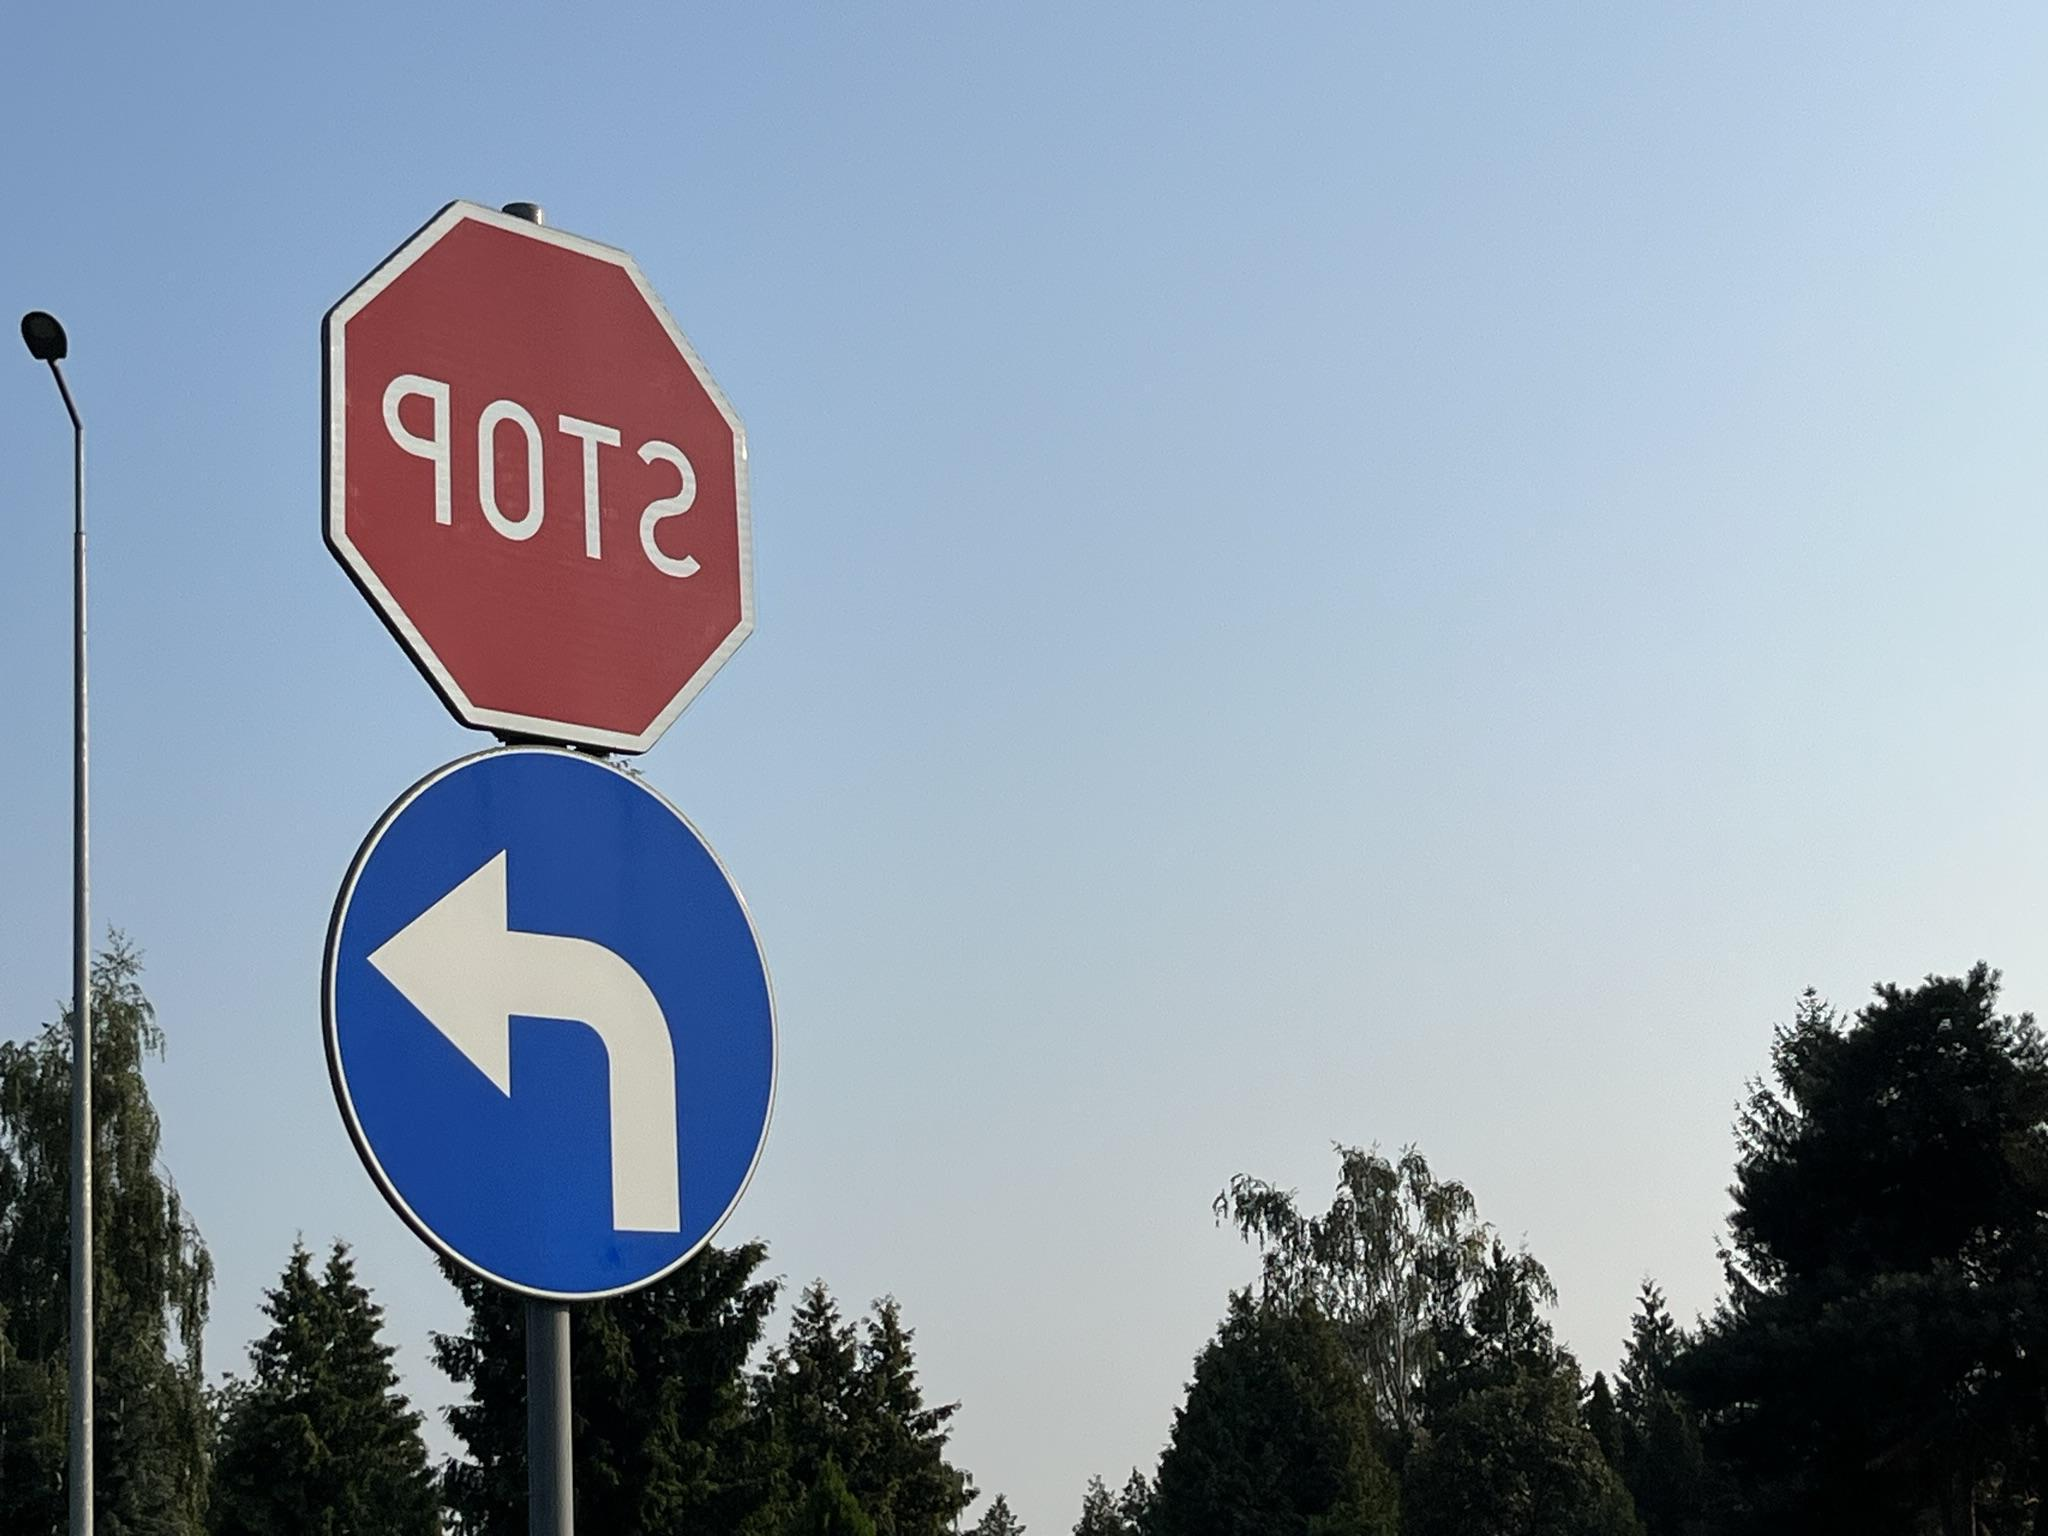information: (319, 744, 779, 1304)
prohibitory: (319, 195, 753, 753)
